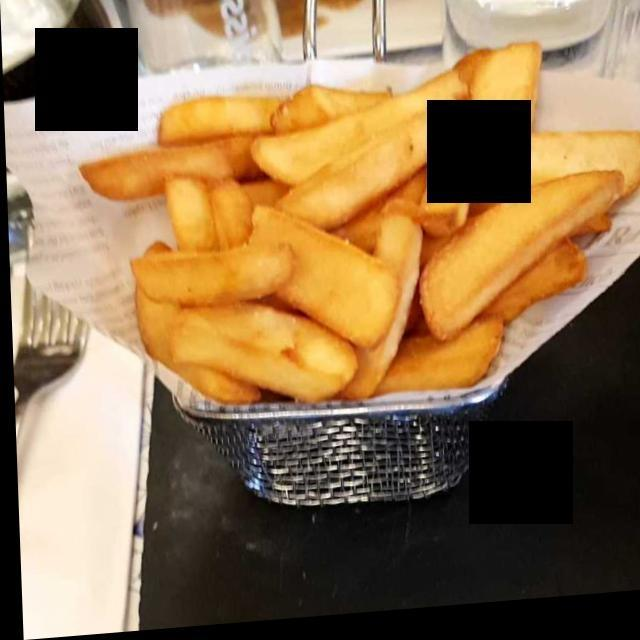chips-french-fries: (91, 55, 636, 404)
